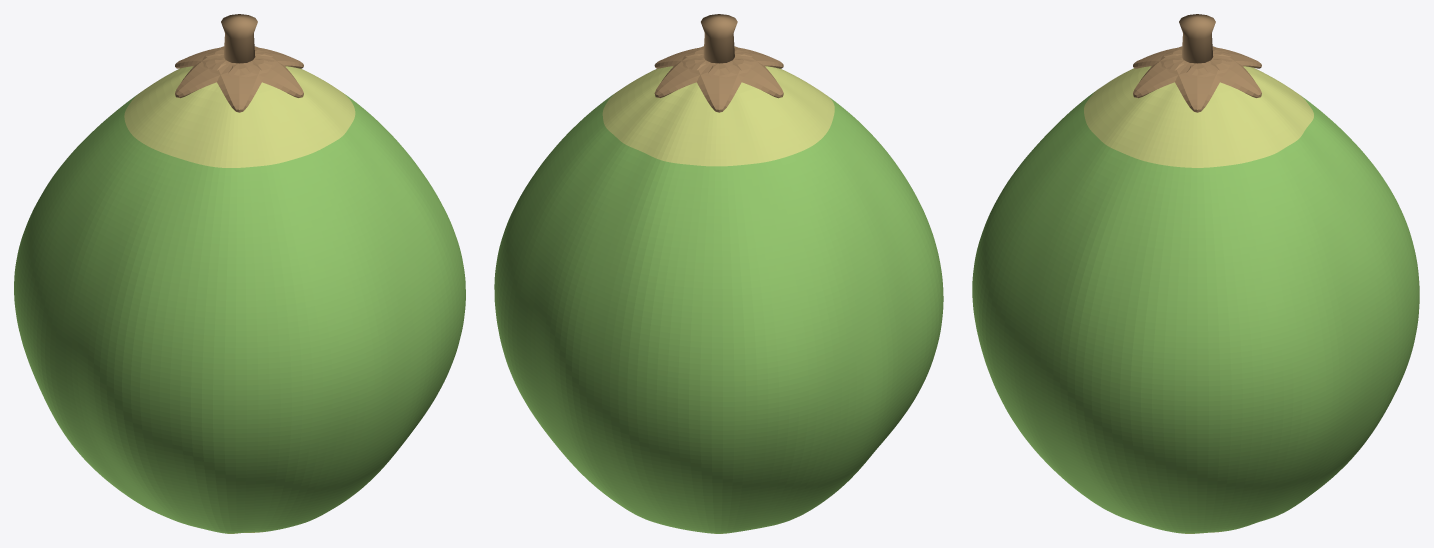
The model's file is coconut_green.glb.
The picture shows the model from 3 angles, left to right: view 1: azimuth 30°, elevation 25°; view 2: azimuth 150°, elevation 25°; view 3: azimuth 270°, elevation 25°; orthographic projection.
Parts seen in each view (by area): view 1: coconut_green; view 2: coconut_green; view 3: coconut_green.
Part boxes in pixels (box(x1,y1,x2,y2)): coconut_green: box(14, 14, 465, 533); coconut_green: box(494, 14, 943, 533); coconut_green: box(972, 14, 1419, 533).
Bounding box in the file's own units: 0.2138 × 0.272 × 0.217.
